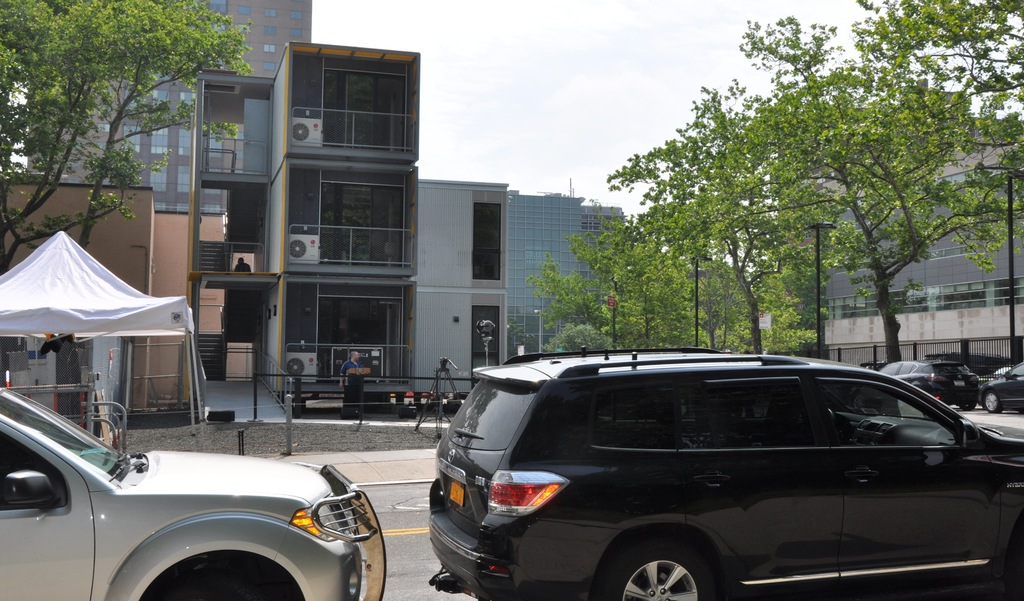Car: (428, 350, 1023, 600), (0, 388, 389, 600), (874, 358, 979, 405), (975, 358, 1023, 417)
